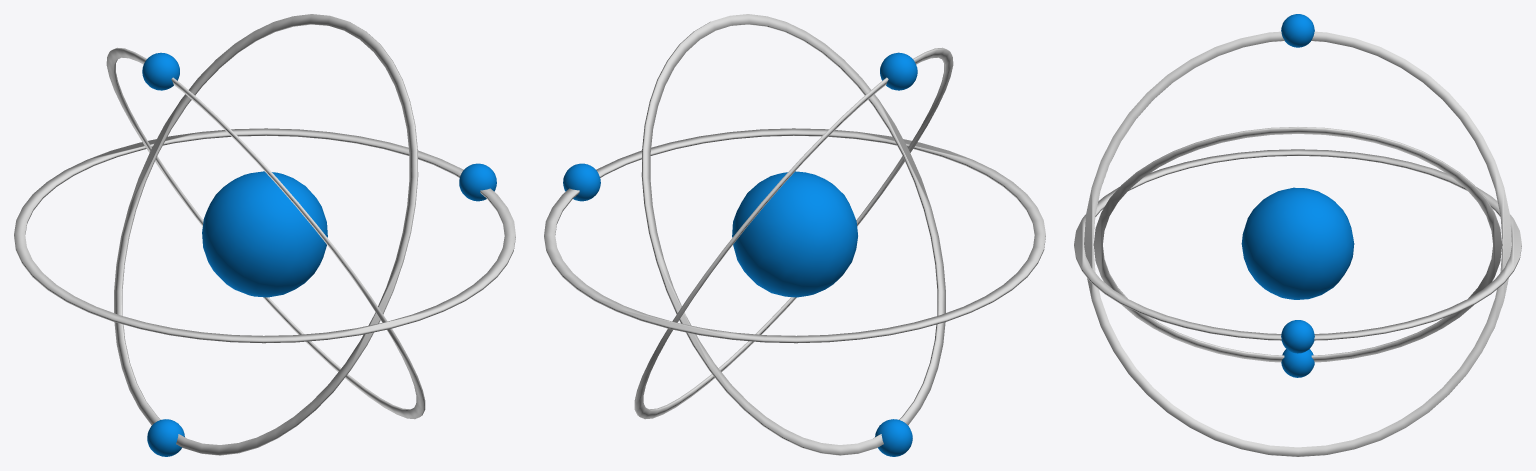
Rendered from atom-transformed.glb.
3 views of the same model, side by side, from view 1: azimuth 30°, elevation 25°; view 2: azimuth 150°, elevation 25°; view 3: azimuth 270°, elevation 25° (orthographic). The views are drawn at different scales.
Visible parts, largest first — view 1: Sphere, BezierCircle.001, BezierCircle.003, BezierCircle.002, Sphere.003, Sphere.004, Sphere.002; view 2: Sphere, BezierCircle.001, BezierCircle.003, BezierCircle.002, Sphere.003, Sphere.002, Sphere.004; view 3: BezierCircle.002, Sphere, BezierCircle.001, BezierCircle.003, Sphere.002, Sphere.003, Sphere.004.
Boxes of the visible parts, bbox=[...] form: Sphere: bbox=[202, 171, 327, 297]; BezierCircle.001: bbox=[114, 14, 418, 455]; BezierCircle.003: bbox=[14, 128, 515, 343]; BezierCircle.002: bbox=[106, 47, 425, 419]; Sphere.003: bbox=[142, 52, 179, 90]; Sphere.004: bbox=[147, 419, 184, 456]; Sphere.002: bbox=[459, 163, 496, 201]; Sphere: bbox=[732, 171, 857, 297]; BezierCircle.001: bbox=[641, 14, 945, 455]; BezierCircle.003: bbox=[544, 128, 1045, 343]; BezierCircle.002: bbox=[634, 47, 953, 419]; Sphere.003: bbox=[880, 52, 917, 90]; Sphere.002: bbox=[563, 163, 600, 201]; Sphere.004: bbox=[875, 419, 912, 456]; BezierCircle.002: bbox=[1084, 31, 1511, 456]; Sphere: bbox=[1241, 187, 1354, 299]; BezierCircle.001: bbox=[1093, 127, 1502, 362]; BezierCircle.003: bbox=[1074, 149, 1521, 340]; Sphere.002: bbox=[1281, 320, 1314, 353]; Sphere.003: bbox=[1281, 14, 1314, 47]; Sphere.004: bbox=[1281, 349, 1314, 377].
Bounding box in the file's own units: 8.18 × 7.03 × 7.96.
